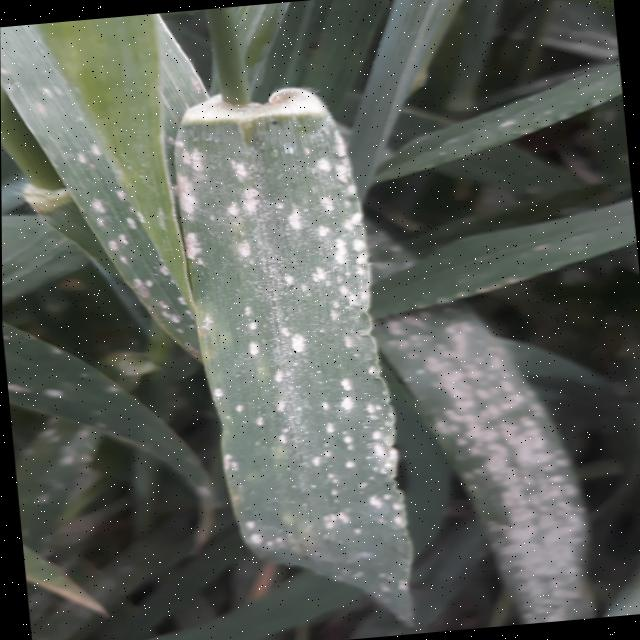powder_mildew: (166, 71, 437, 634), (410, 223, 640, 630), (0, 10, 222, 431), (11, 420, 205, 640), (395, 62, 628, 183), (488, 0, 614, 20)
